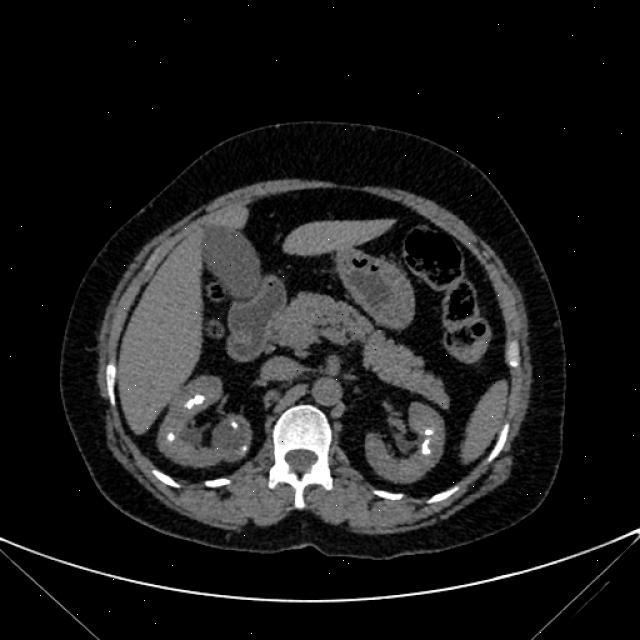kidneystone: (186, 394, 204, 408), (421, 439, 429, 454), (168, 432, 175, 441), (425, 429, 434, 436), (230, 421, 238, 428), (240, 445, 248, 452)
